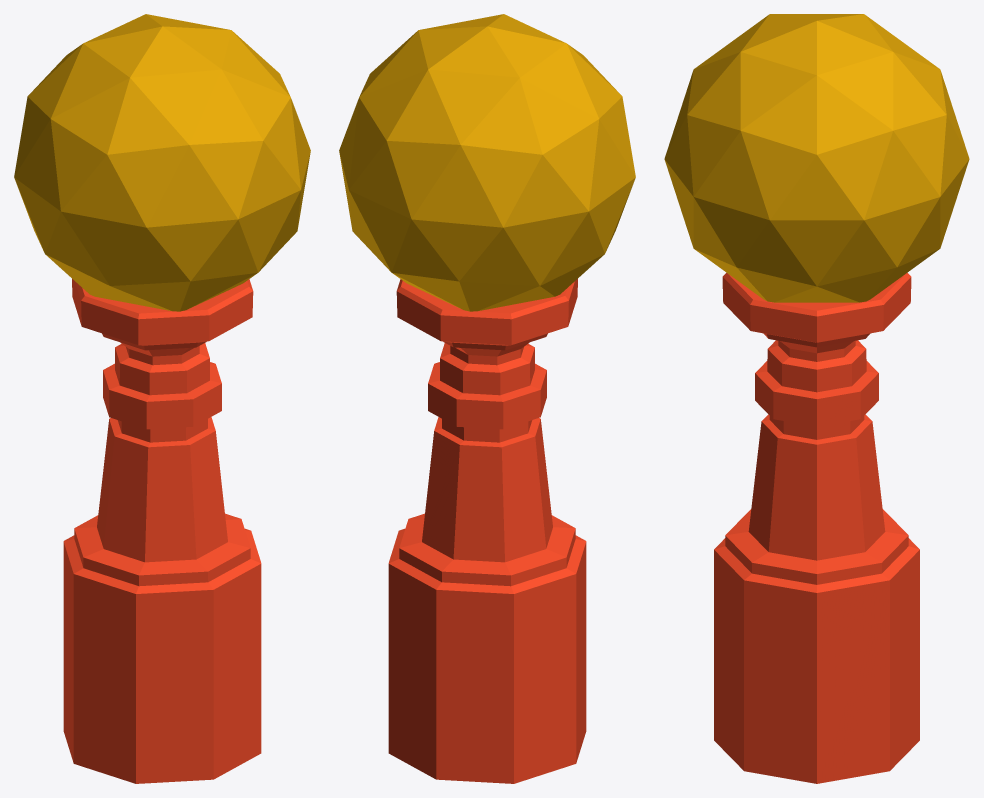
File: SM_Lamp_Sidewalk_H_City.fbx
3 renders of one model, left to right at view 1: azimuth 30°, elevation 25°; view 2: azimuth 150°, elevation 25°; view 3: azimuth 270°, elevation 25°, orthographic.
Visible parts, largest first — view 1: SM_Lamp_Sidewalk_H_City; view 2: SM_Lamp_Sidewalk_H_City; view 3: SM_Lamp_Sidewalk_H_City.
Part boxes in pixels (<box>): SM_Lamp_Sidewalk_H_City: <box>14,14,310,783</box>; SM_Lamp_Sidewalk_H_City: <box>339,14,635,783</box>; SM_Lamp_Sidewalk_H_City: <box>664,14,969,783</box>.
Bounding box in the file's own units: 0.313 × 0.8565 × 0.3291.
